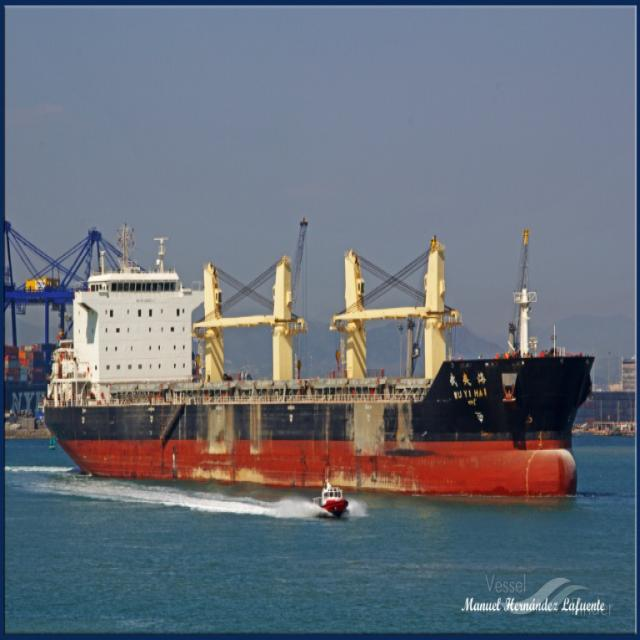OCR: (449, 380, 490, 416)
